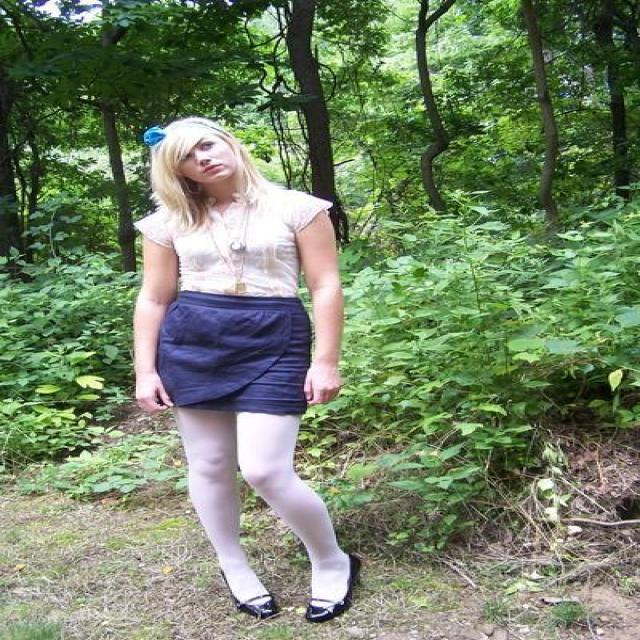shirt: (134, 177, 332, 297)
shoe: (229, 576, 347, 607)
skirt: (156, 291, 318, 417)
